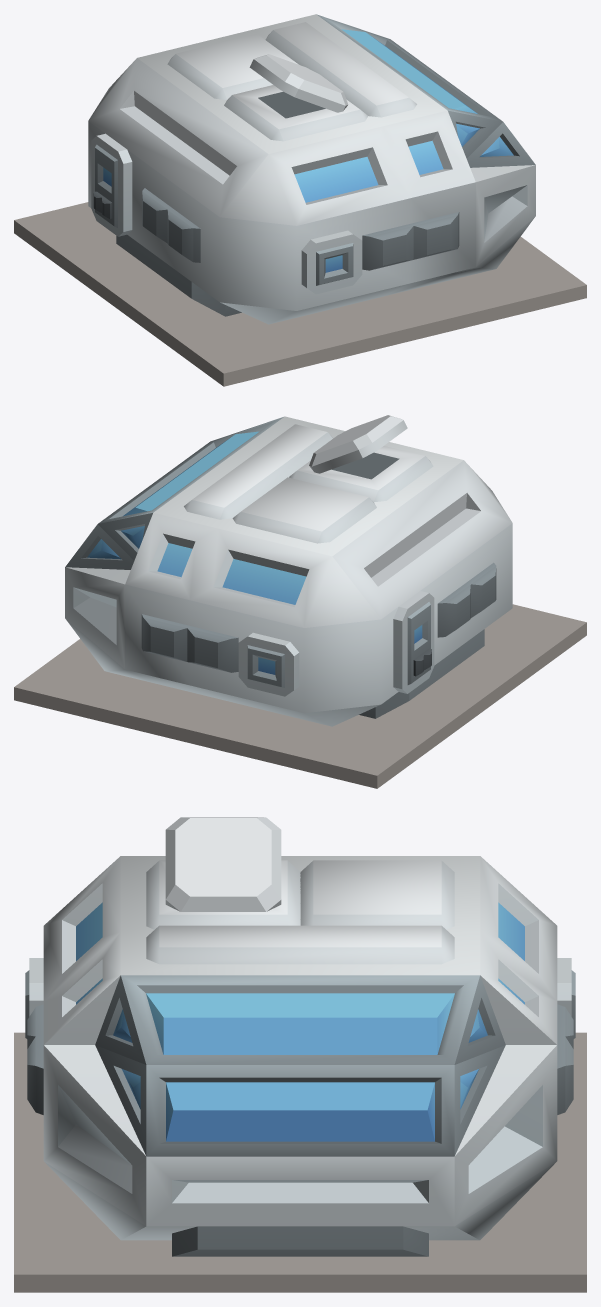
Rendered from cargo_ship.glb.
3 views of the same model, one above another, from view 1: azimuth 30°, elevation 25°; view 2: azimuth 150°, elevation 25°; view 3: azimuth 270°, elevation 25° (orthographic). The views are drawn at different scales.
Parts seen in each view (by area): view 1: Cargoship; view 2: Cargoship; view 3: Cargoship.
Boxes of the visible parts, x1,y1,x2,y2 form: Cargoship: (14, 14, 586, 386); Cargoship: (14, 415, 586, 788); Cargoship: (14, 817, 586, 1292).
Size of the model in its own units: 0.29 by 0.1789 by 0.29.
1 material, 1 textured.
